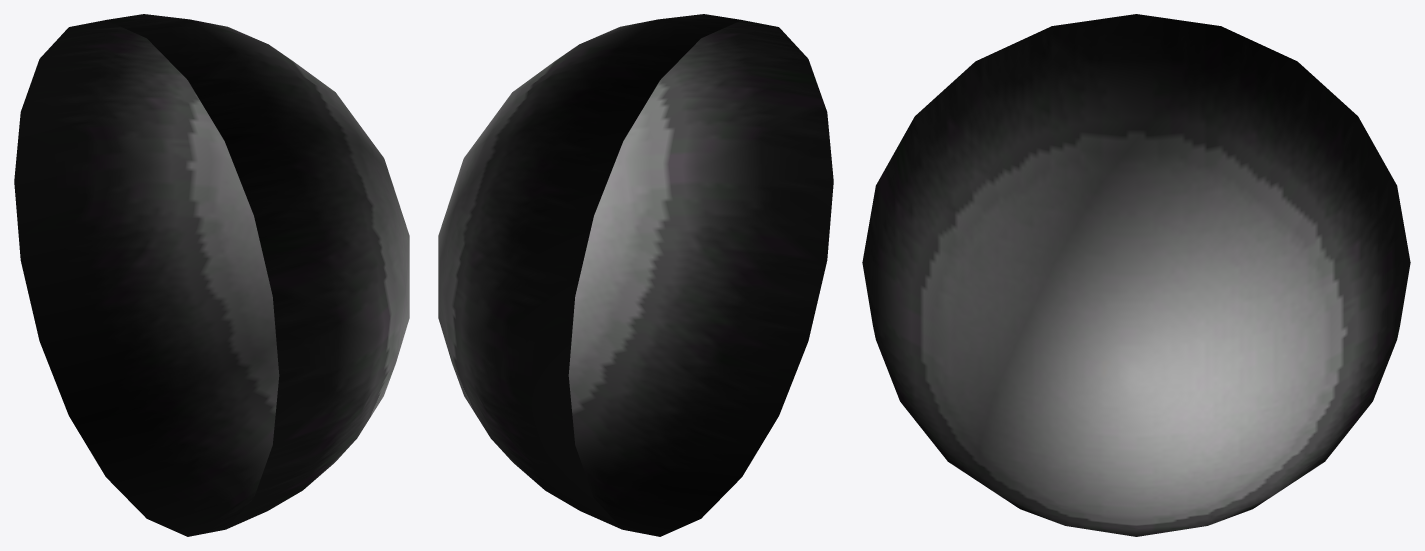
File: magneto_shield.glb
3 views of the same model, side by side, from view 1: azimuth 30°, elevation 25°; view 2: azimuth 150°, elevation 25°; view 3: azimuth 270°, elevation 25° (orthographic). The views are drawn at different scales.
Visible parts, largest first — view 1: magneto_shield_0; view 2: magneto_shield_0; view 3: magneto_shield_0.
Boxes of the visible parts, x1,y1,x2,y2 form: magneto_shield_0: (14,14,409,536); magneto_shield_0: (438,14,833,536); magneto_shield_0: (862,14,1410,536).
Bounding box in the file's own units: 49.38 × 98.18 × 98.18.
Materials: 1 (1 with a texture image).
